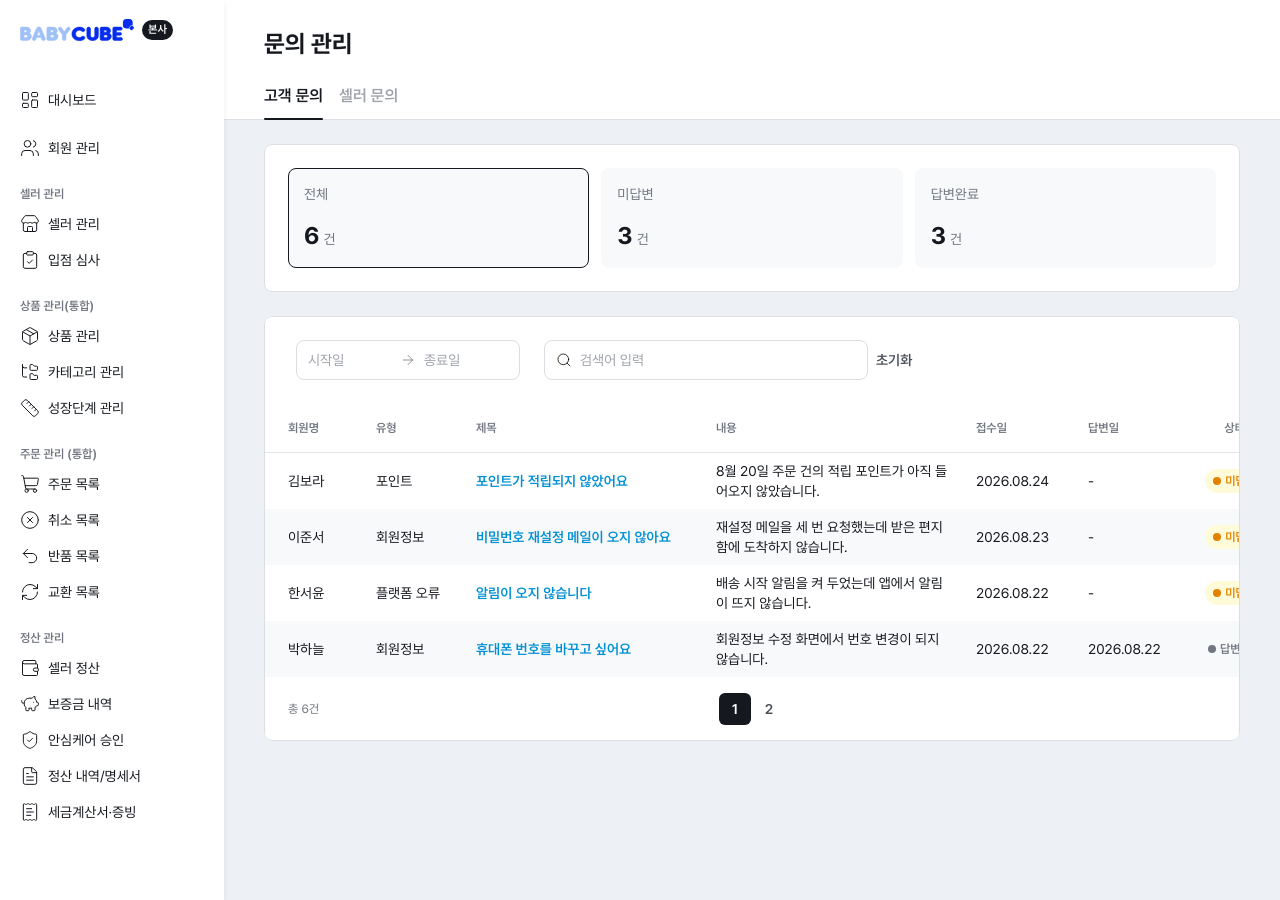
Test case: SupportListPage › 탭 — 몸통이 통째로 다르다 (원본 구조) › 셀러 탭에는 필터도 페이지네이션도 없다 (원본은 size 100 으로 한 번에 받는다)
What coordinates should you click on to do the following:
click the tab "셀러 문의"
I would click on:
 (369, 96)
Its box is top-left (339, 72), bottom-right (398, 120).
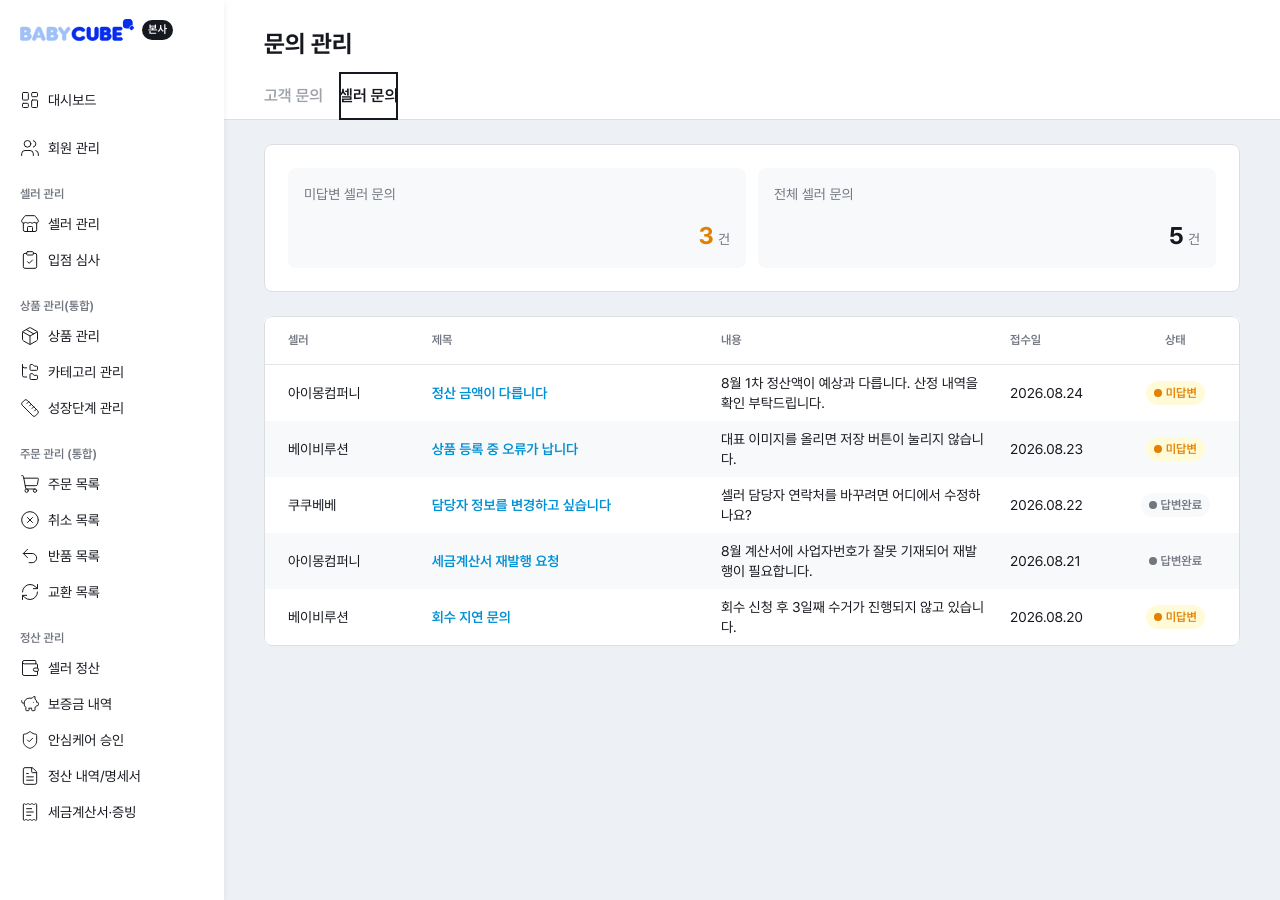
Expected: the field is gone
Expected: the navigation bar "페이지네이션" is gone
